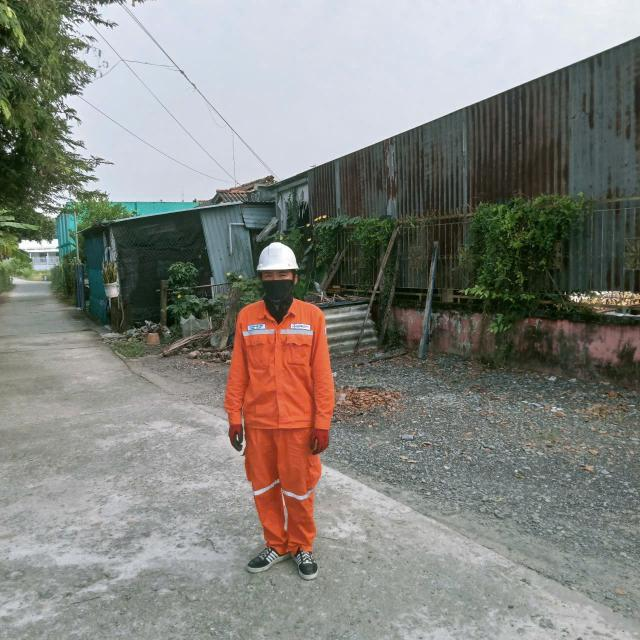gloves: (225, 408, 254, 459), (303, 426, 342, 462)
helmet: (246, 227, 306, 288)
shoes: (284, 528, 321, 582), (247, 538, 293, 579)
